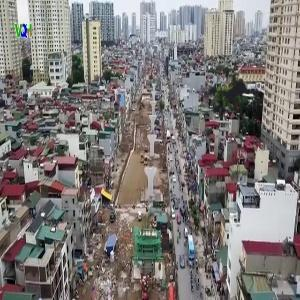drone: (185, 47, 285, 147)
